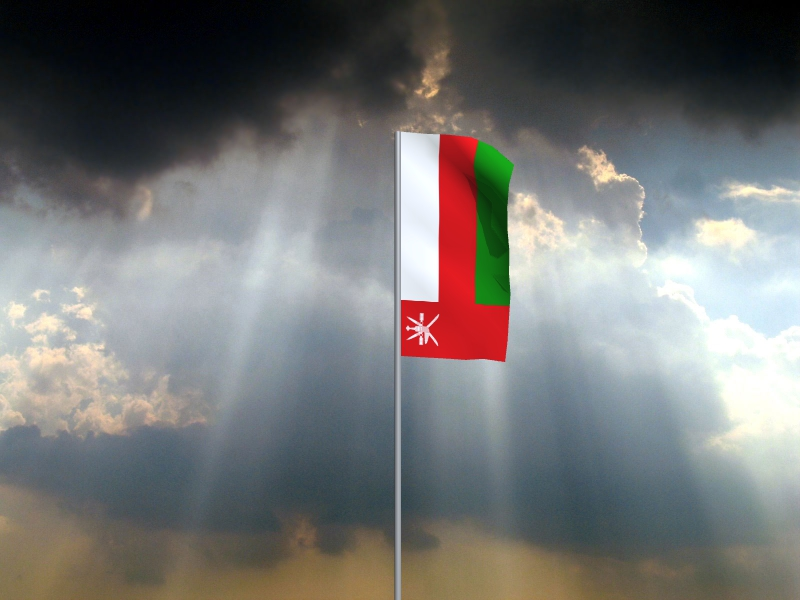om: (402, 133, 516, 363)
